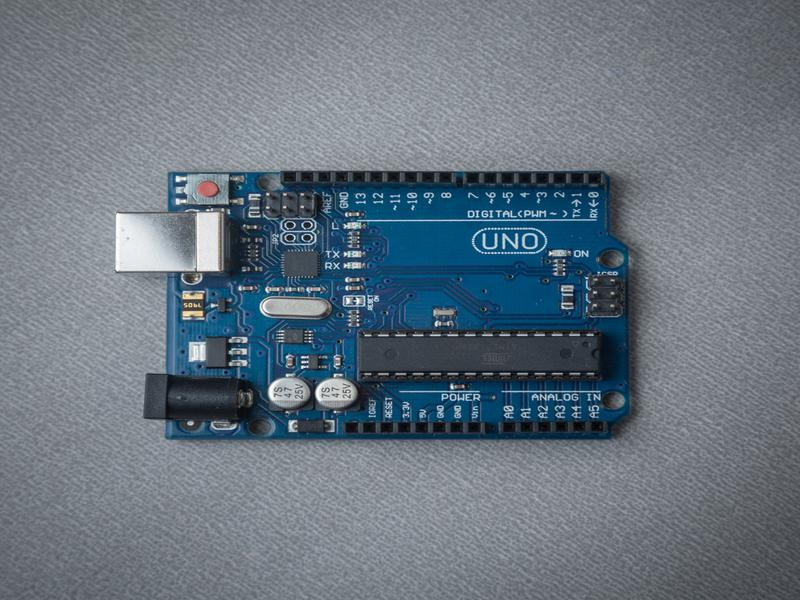Arduino UNO: (112, 164, 632, 444)
